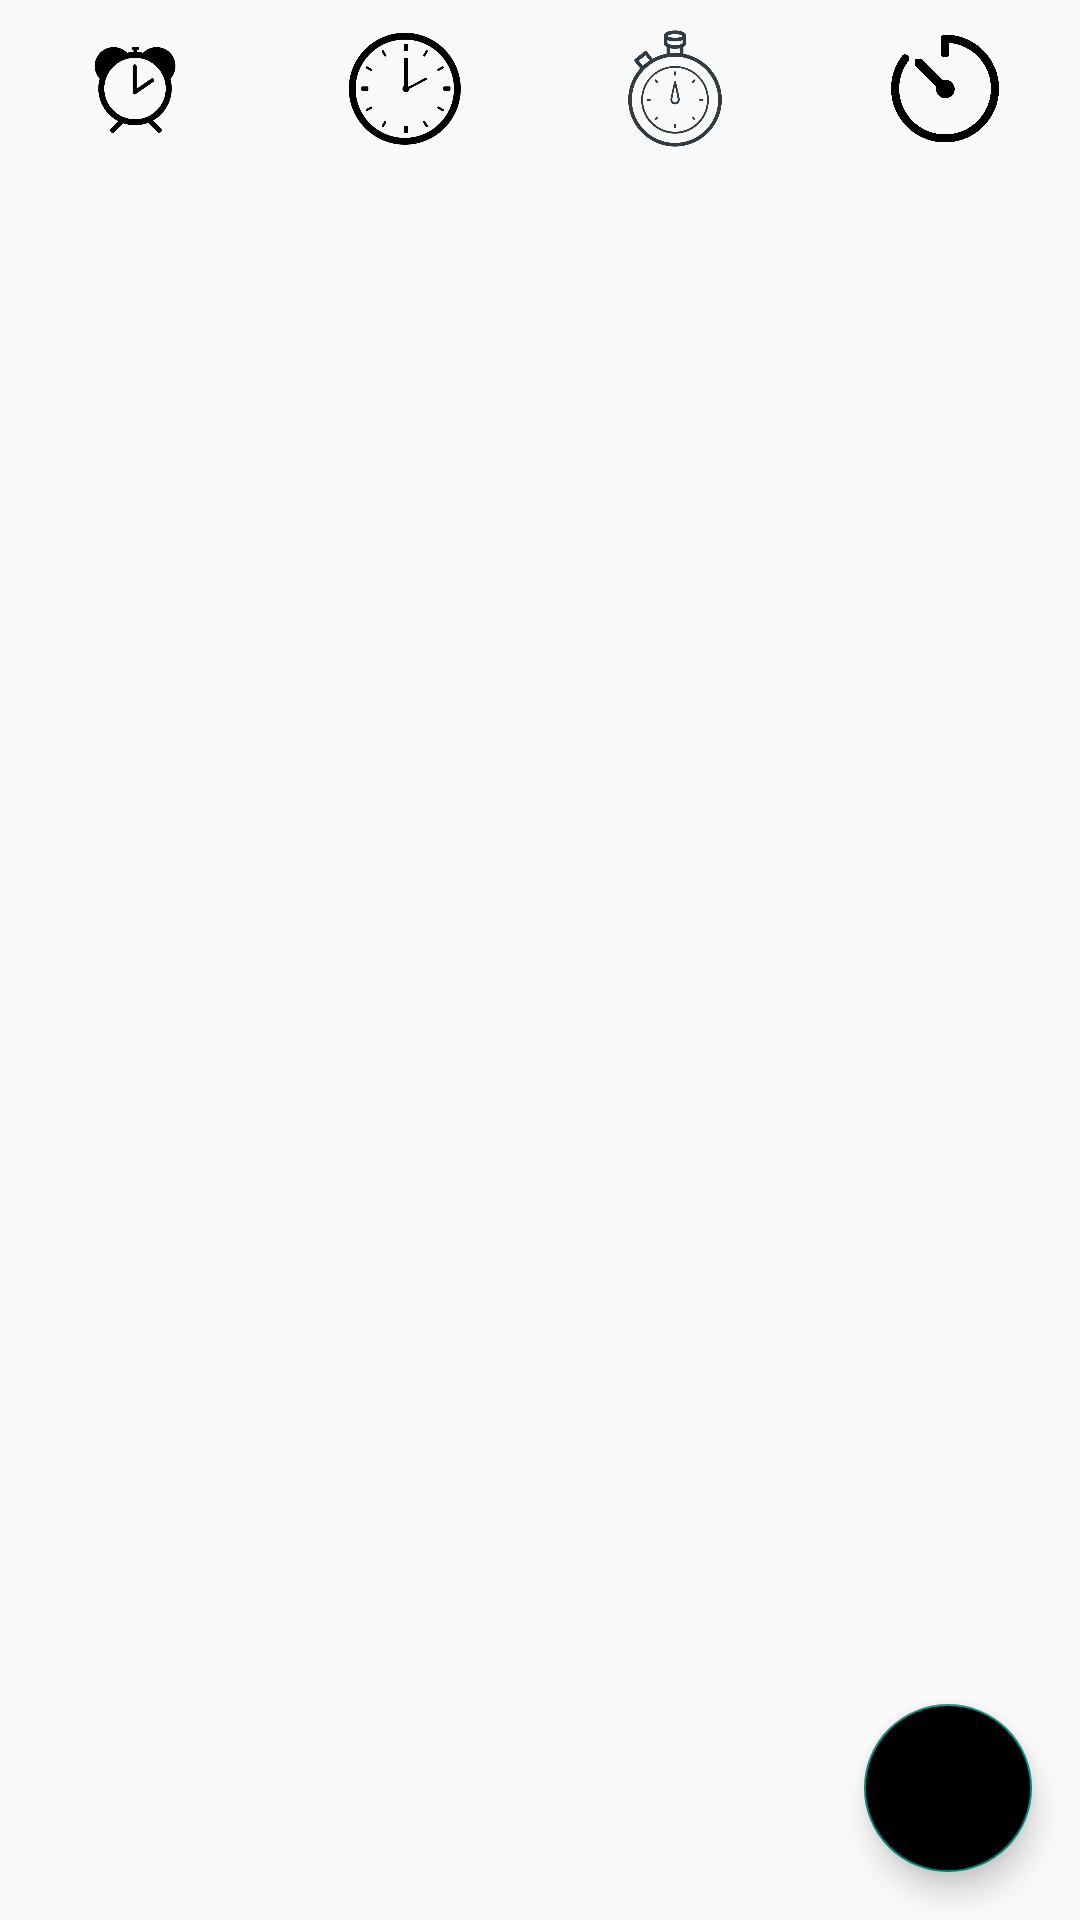

Named icons in this screenshot (1080w x 1920h) and their bounding boxes, (left=x1, top=y1, right=x2, bottom=y2):
alarm nav: (left=95, top=47, right=176, bottom=133)
clock: (left=349, top=33, right=461, bottom=145)
stopwatch: (left=628, top=30, right=722, bottom=147)
timer: (left=891, top=35, right=999, bottom=142)
